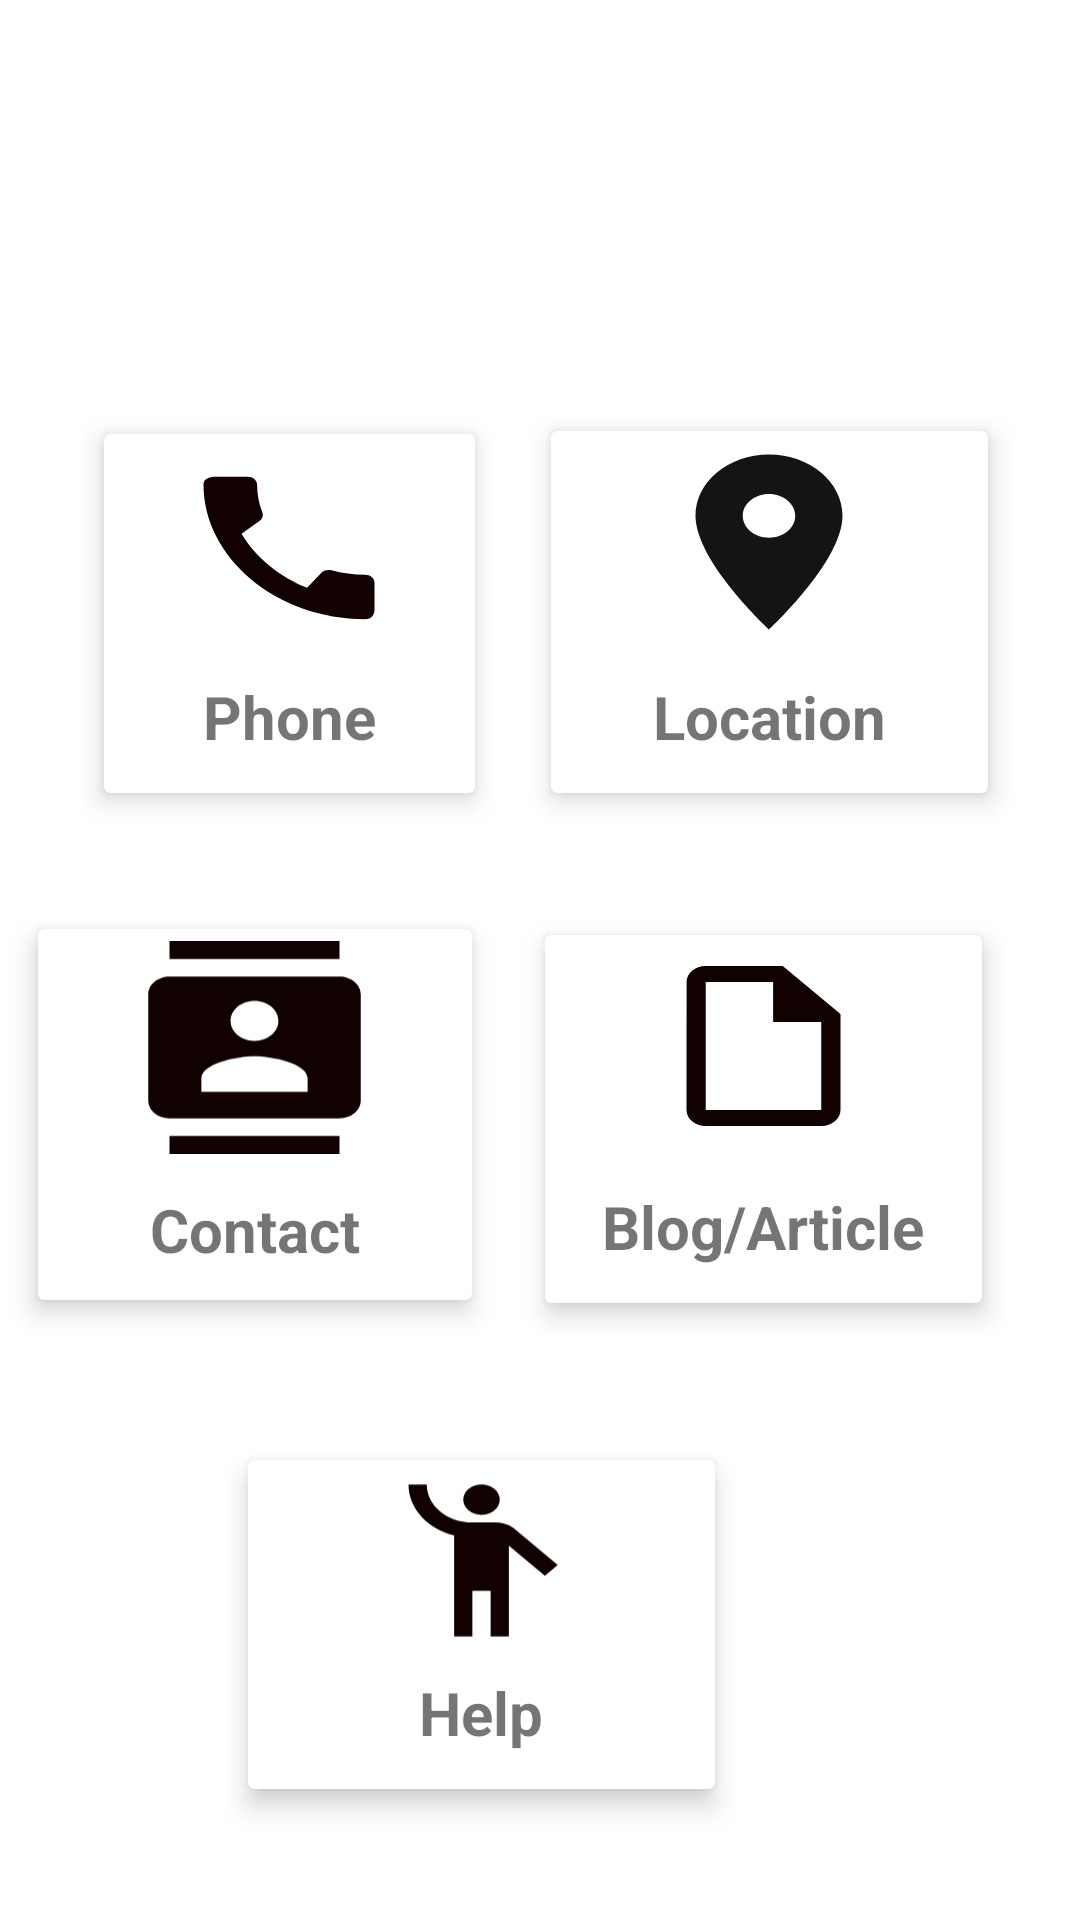

Point at icon controls on the screen. Image size 1080 x 1920, points as point (x, y).
call: point (289, 548)
emoji people: point (483, 1560)
insert drive file: point (763, 1046)
